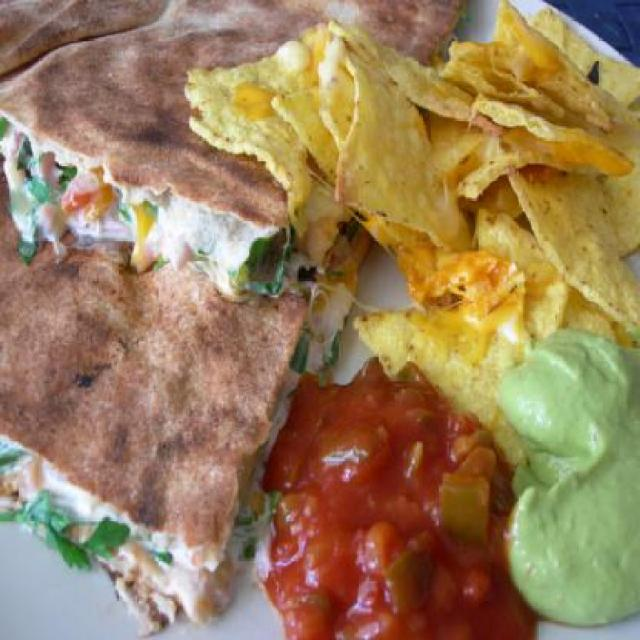chicken quesadilla: (1, 0, 468, 618)
guacamole: (480, 312, 638, 626)
